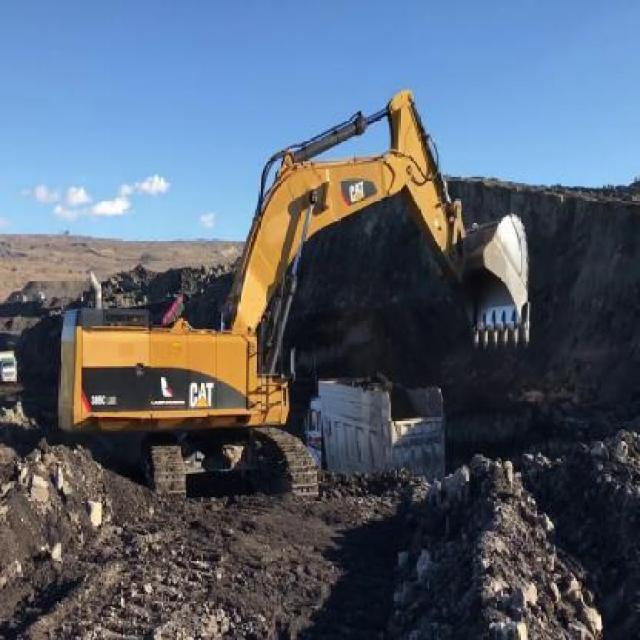Dump Truck: (307, 372, 445, 494)
Excavator: (38, 83, 528, 517)
